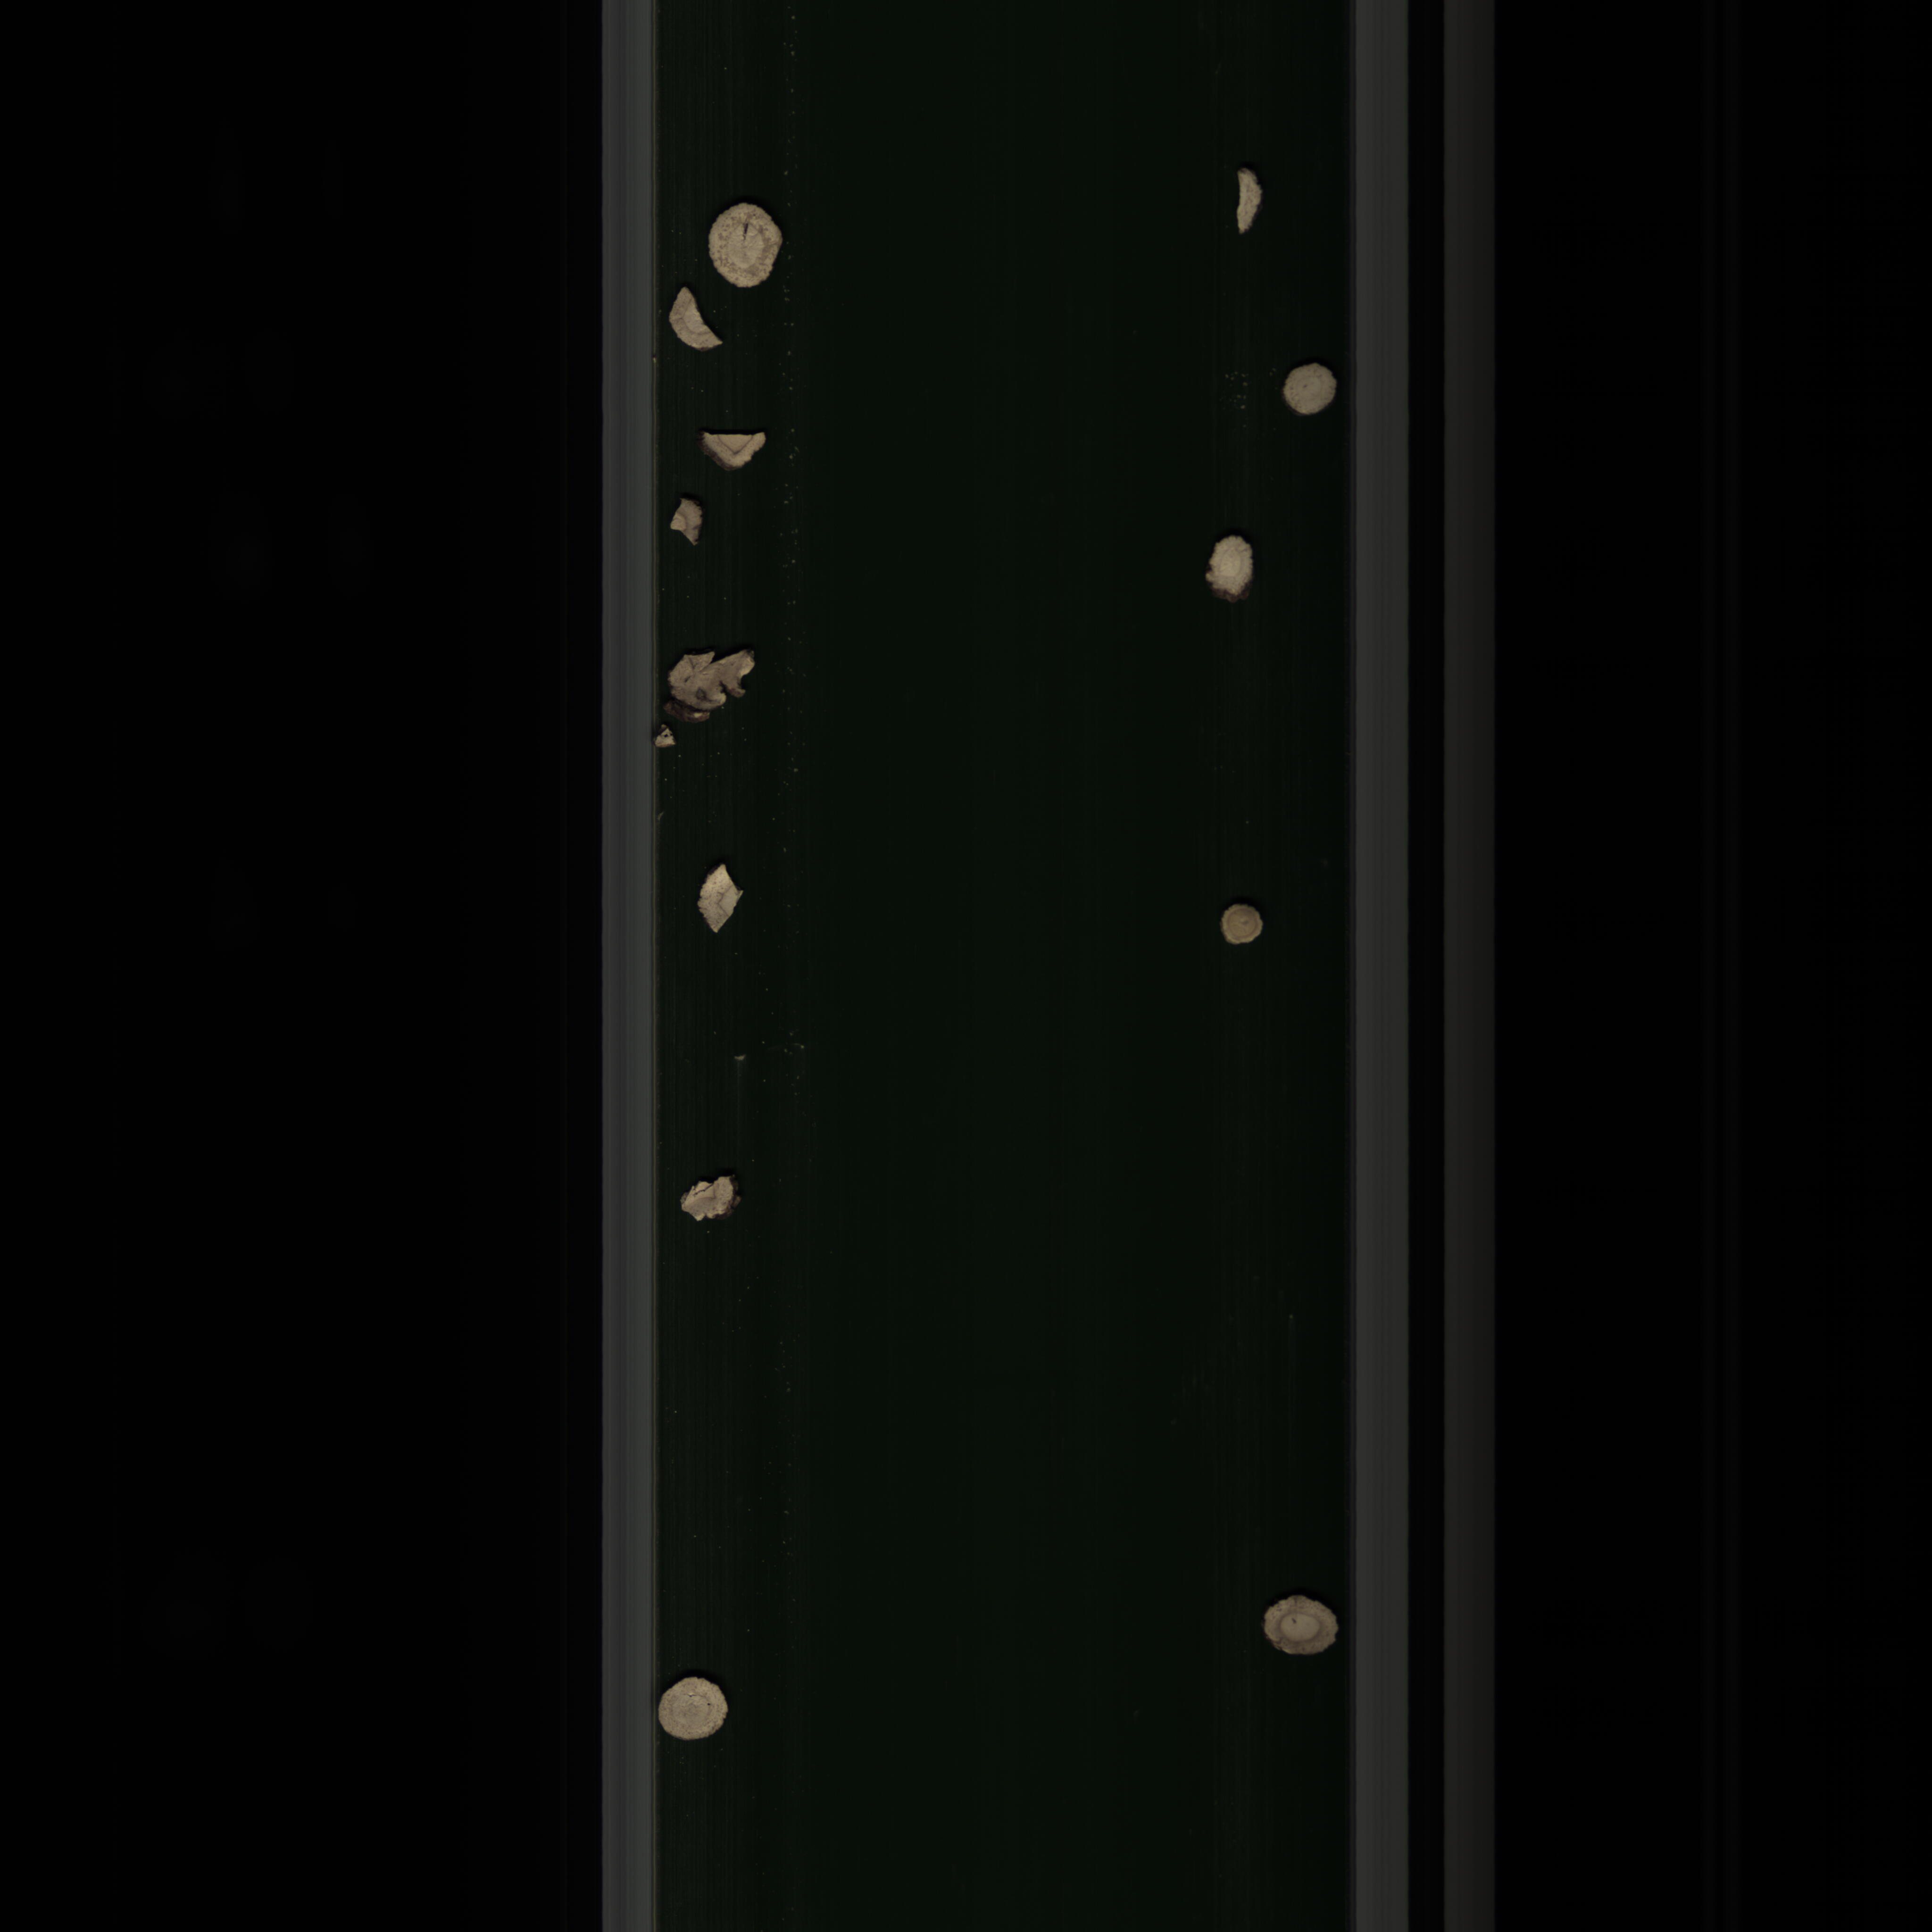bark: (655, 640, 770, 731)
debris: (658, 278, 736, 361), (669, 1168, 761, 1230), (692, 421, 786, 472), (694, 860, 747, 941), (1226, 165, 1274, 244), (663, 492, 709, 550)
